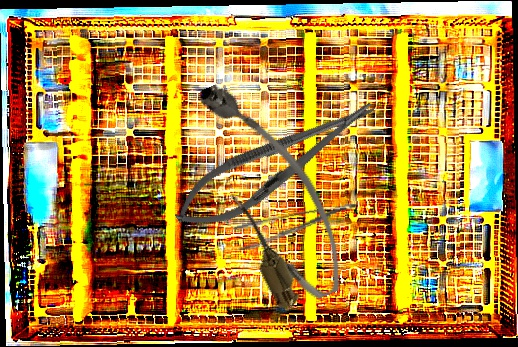Cannula: (183, 63, 359, 317)
Dressing Forceps: (232, 200, 363, 252)
Needle Holder: (164, 83, 387, 245)
